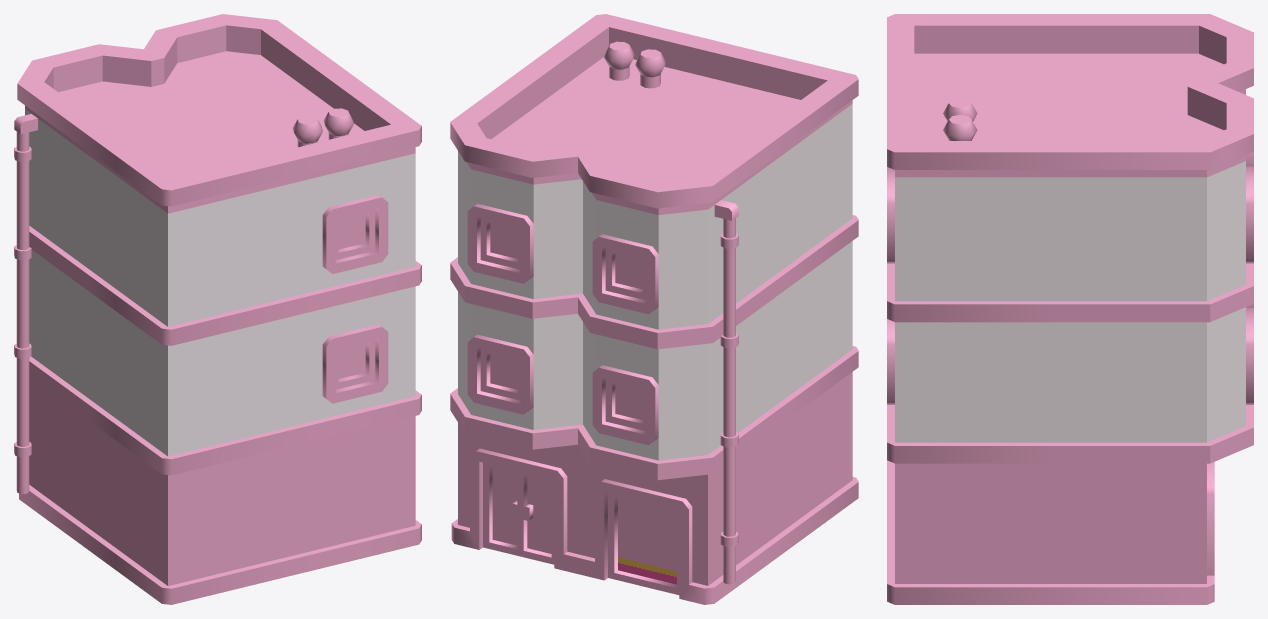
File: building_a.obj
3 renders of one model, left to right at view 1: azimuth 30°, elevation 25°; view 2: azimuth 150°, elevation 25°; view 3: azimuth 270°, elevation 25°, orthographic. The views are drawn at different scales.
Visible parts, largest first — view 1: building-a; view 2: building-a; view 3: building-a.
Part boxes in pixels (<box>): building-a: <box>14,14,421,604</box>; building-a: <box>450,14,858,604</box>; building-a: <box>887,14,1253,604</box>.
Bounding box in the file's own units: 17.67 × 25.86 × 18.8.
Materials: 1 (1 with a texture image).
